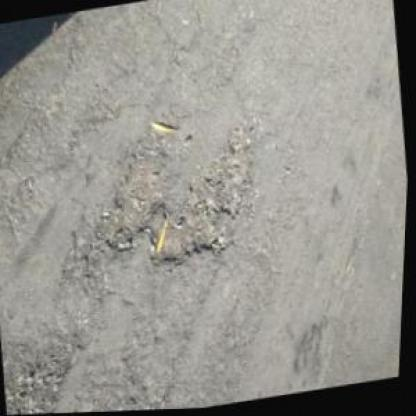pothole: (89, 111, 269, 284)
